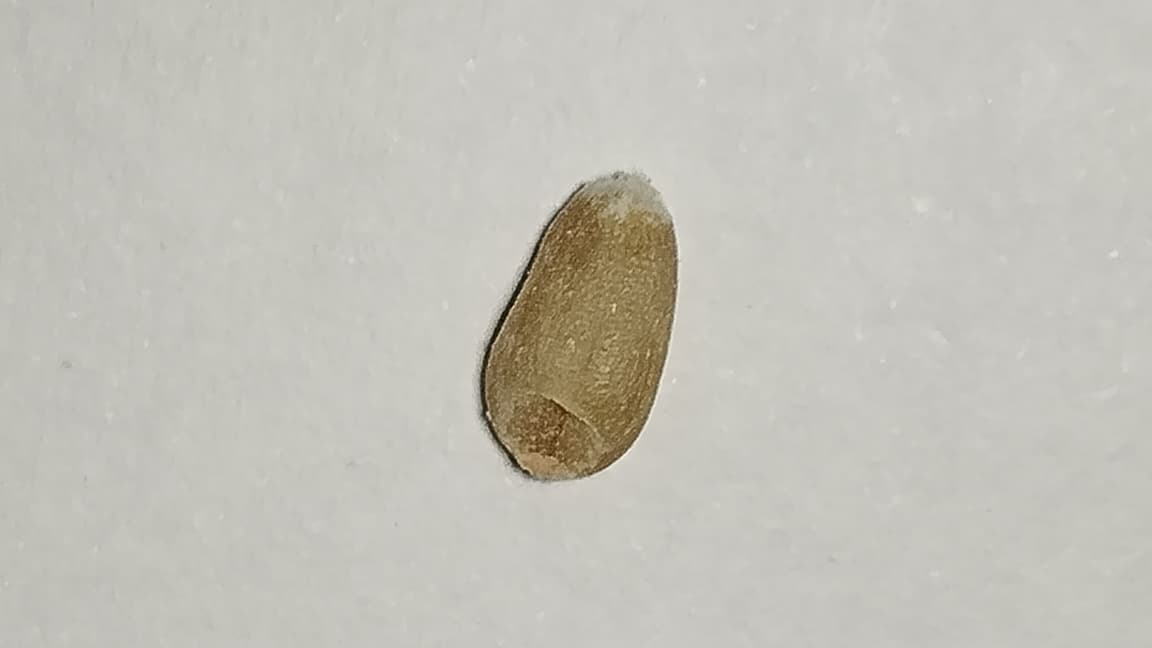damage: (483, 170, 675, 471)
insectdamage: (512, 363, 608, 473)
